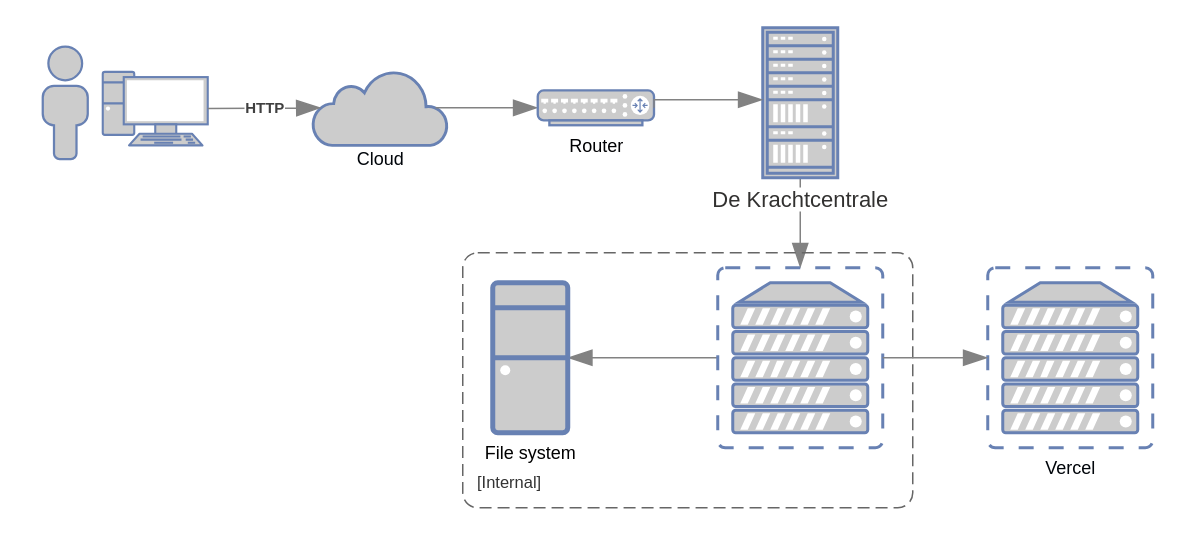
This 1181x534 diagram has some shape labels left out. Each missing label, with the centre of its shape:
"Gebruiker" belongs at point 64,102.
"VPS" belongs at point 800,357.
